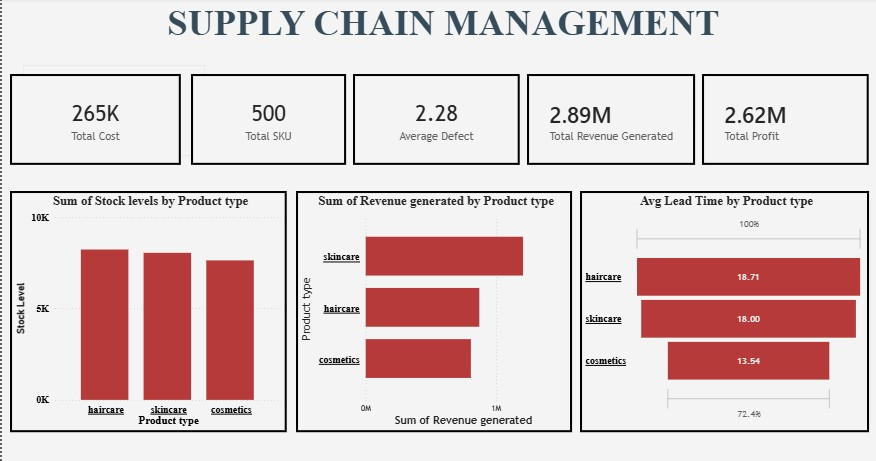

What the dashboard file says about the page in this screenshot:
{"tool":"powerbi","page":{"name":"Page 1","canvas":[1280,720],"ordinal":0},"visuals":[{"type":"card","fields":{"Values":["supply chain management final d.total cost"]},"box":[30.7,98,266.3,133.2],"z":0},{"type":"card","fields":{"Values":["supply chain management final d.total stock"]},"box":[251.7,98,242.9,133.2],"z":1000},{"type":"card","fields":{"Values":["supply chain management final d.Average Defect Rate"]},"box":[494.6,98,251.7,133.2],"z":2000},{"type":"columnChart","fields":{"Category":["supply chain management final d.Product type"],"Y":["Sum(supply chain management final d.Stock levels)"]},"box":[11.7,282.4,431.7,319],"z":3000},{"type":"textbox","box":[11.8,0,1268.2,119.3],"z":4000},{"type":"areaChart","fields":{"Category":["supply chain management final d.Product type"],"Y":["Sum(supply chain management final d.Revenue generated)"]},"box":[465.4,282.4,425.9,319],"z":5000},{"type":"cardVisual","fields":{"Data":["supply chain management final d.Total Product"]},"box":[768.3,98,245.9,133.2],"z":6000},{"type":"lineChart","fields":{"Category":["supply chain management final d.Product type"],"Y":["supply chain management final d.Total Revenue Generated"],"Y2":["supply chain management final d.Total Profit"]},"box":[891,282,389,319],"z":7000},{"type":"cardVisual","fields":{"Data":["supply chain management final d.Total Profit"]},"box":[1024.4,98,256.1,133.2],"z":8000},{"type":"card","fields":{"Values":["supply chain management final d.total cost"]},"box":[11.7,98,266.3,133.2],"z":9000}]}

Visuals, with their boxes on the page's 1280x720 design canvas (x1, y1, x2, y2). These are canvas units, not pixel positions in the 876x461 screenshot, which may show the page scaled, cropped or inside an application window:
card - supply chain management final d.total cost: [31,98,297,231]
card - supply chain management final d.total stock: [252,98,495,231]
card - supply chain management final d.Average Defect Rate: [495,98,746,231]
columnChart - supply chain management final d.Product type x Sum(supply chain management final d.Stock levels): [12,282,443,601]
textbox: [12,0,1280,119]
areaChart - supply chain management final d.Product type x Sum(supply chain management final d.Revenue generated): [465,282,891,601]
cardVisual - supply chain management final d.Total Product: [768,98,1014,231]
lineChart - supply chain management final d.Product type x supply chain management final d.Total Revenue Generated: [891,282,1280,601]
cardVisual - supply chain management final d.Total Profit: [1024,98,1280,231]
card - supply chain management final d.total cost: [12,98,278,231]
